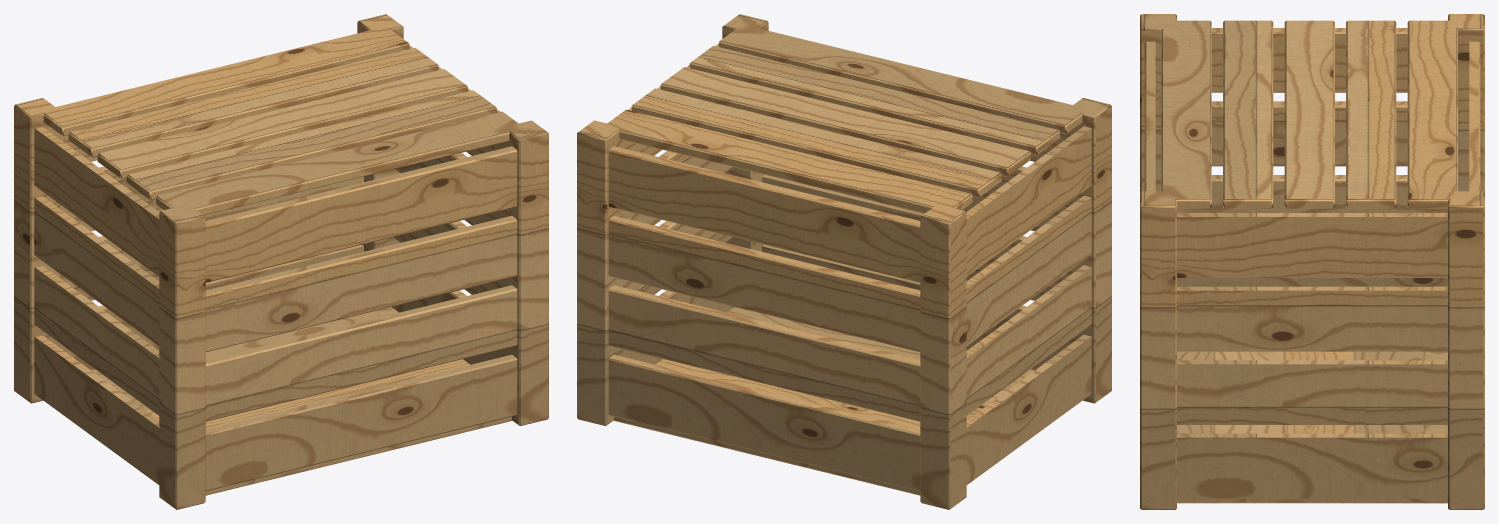
File: SM_QUE_Crate.fbx
3 renders of one model, left to right at view 1: azimuth 30°, elevation 25°; view 2: azimuth 150°, elevation 25°; view 3: azimuth 270°, elevation 25°, orthographic. The views are drawn at different scales.
Visible parts, largest first — view 1: SM_QUE_Crate; view 2: SM_QUE_Crate; view 3: SM_QUE_Crate.
Part boxes in pixels (x1,y1,x2,y2): SM_QUE_Crate: (14, 14, 548, 509); SM_QUE_Crate: (577, 14, 1111, 509); SM_QUE_Crate: (1140, 14, 1484, 509).
Bounding box in the file's own units: 0.816 × 0.6 × 0.616.
